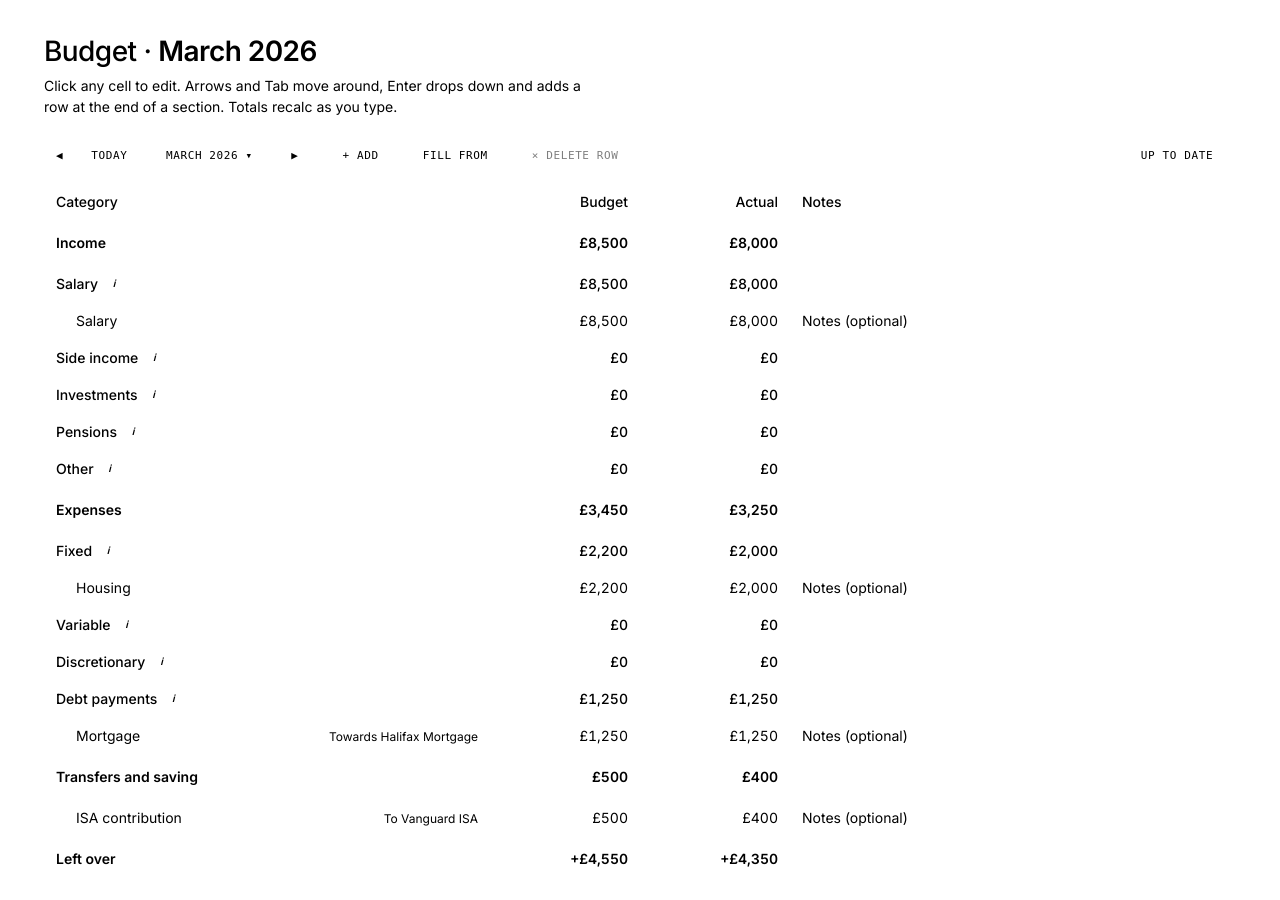
Scenario: BudgetSheet — a copy that left rows behind › says how many rows were skipped rather than dropping them silently
This screenshot has width=1280, height=900.
Click the button "Fill from" at (455, 156), box [411, 141, 500, 171]
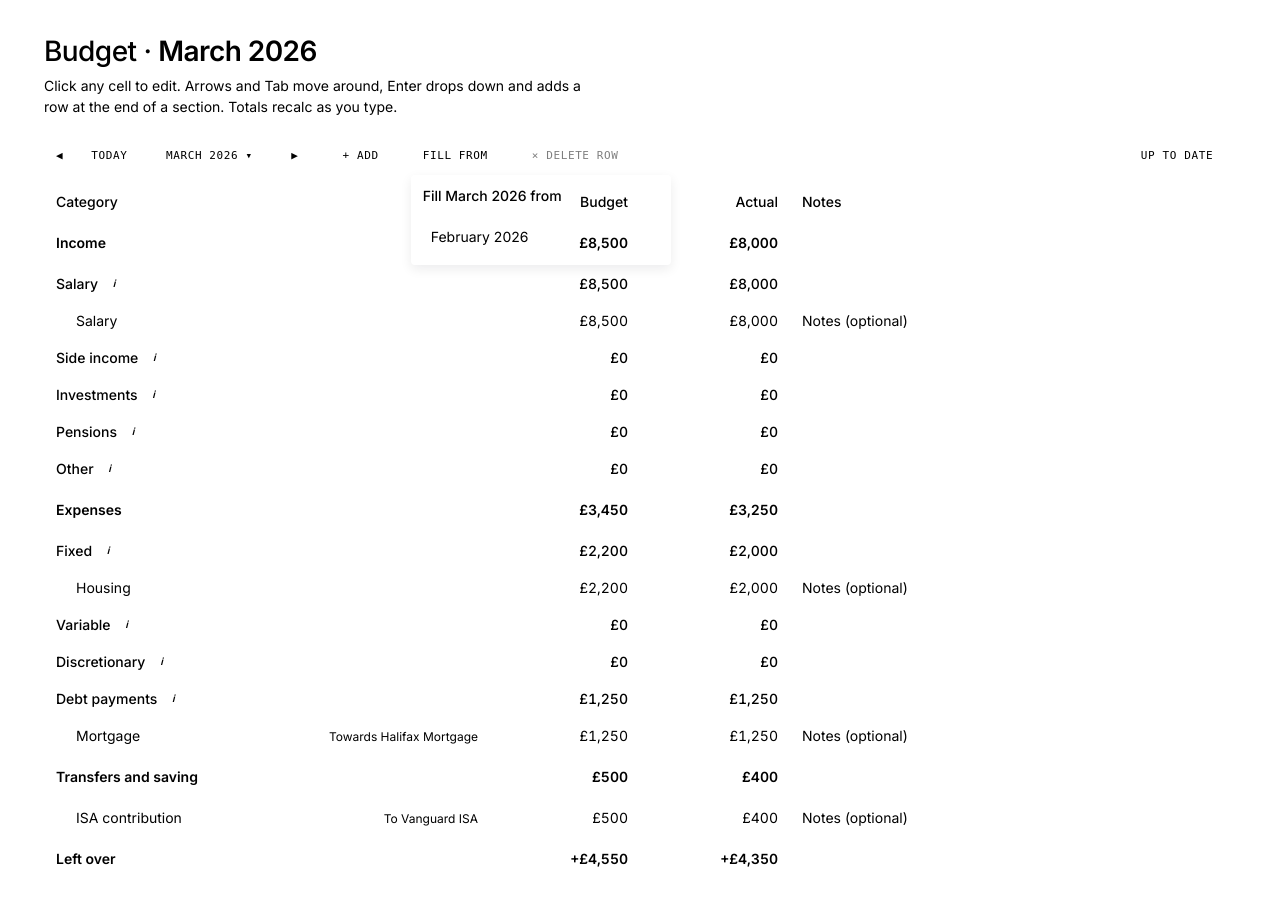
Click the button "February 2026" at (541, 236), box [423, 220, 659, 253]
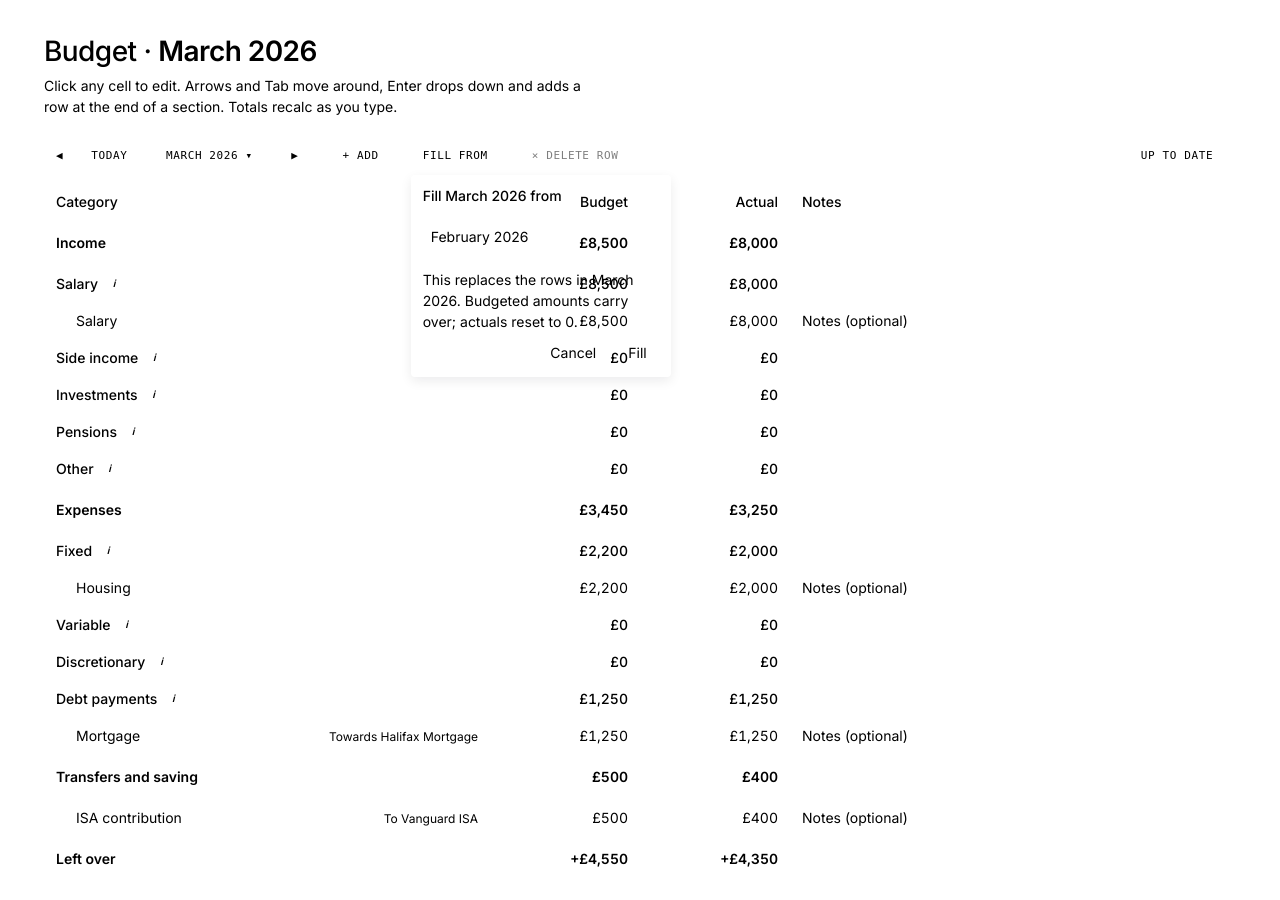
Click the button "Fill" at (638, 352), box [616, 340, 659, 365]
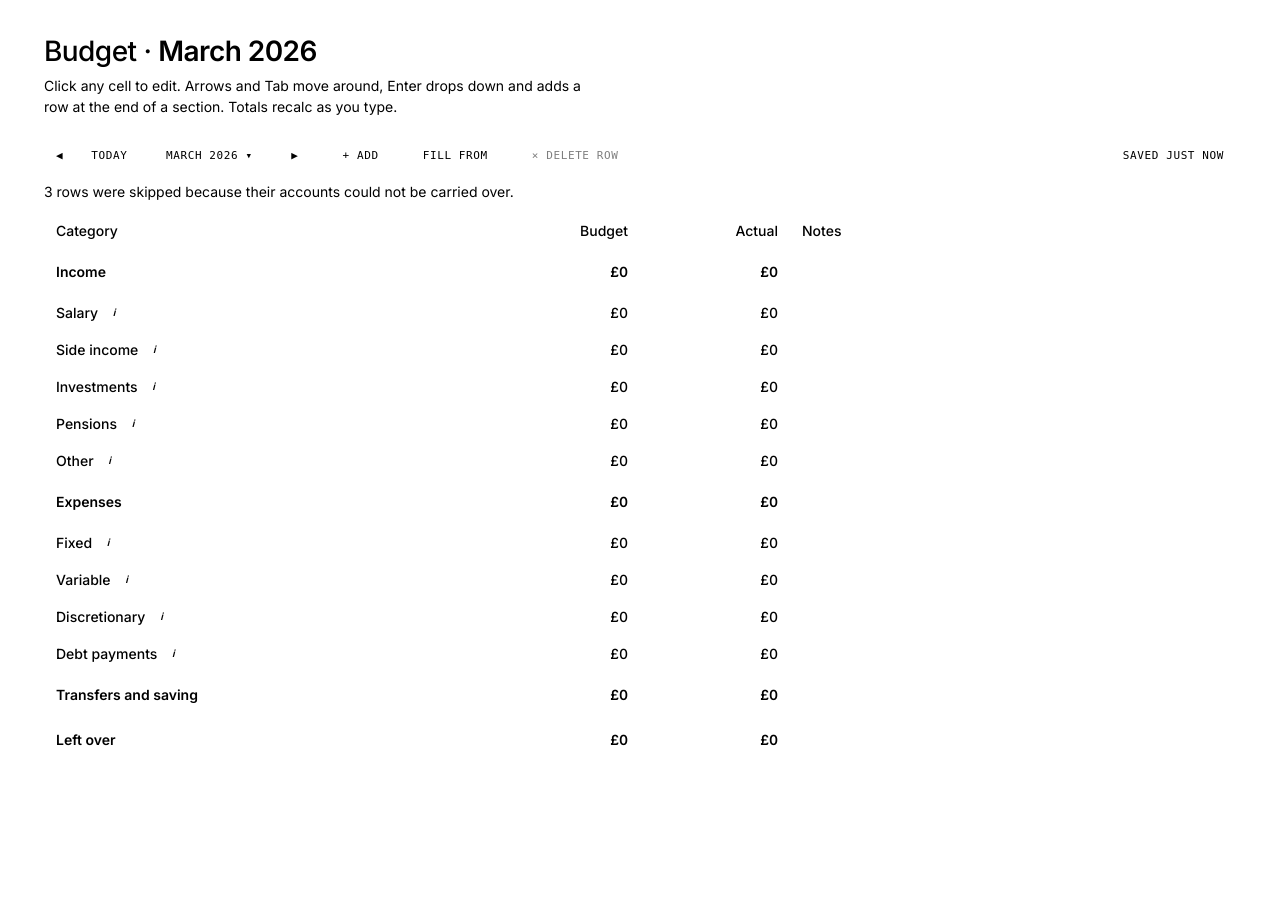
Result: the text "3 rows were skipped because their accounts could not be carried over." is shown at [44, 183, 514, 200]
